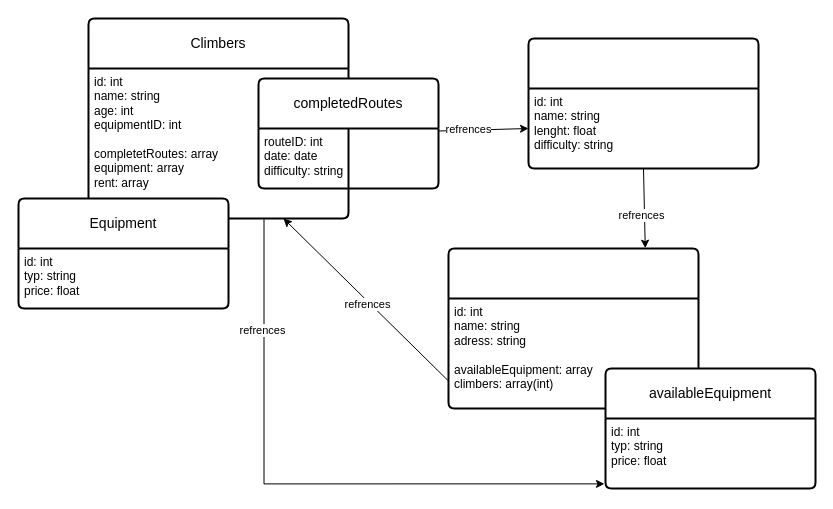
The diagram is 833 pixels wide and 509 high, and some of its shapes have lost their labels. Here are the shapes that lost their labels. From the top down, the box of each, then its label:
(527, 37, 759, 169): Route
(447, 247, 699, 409): ClimbingHall
